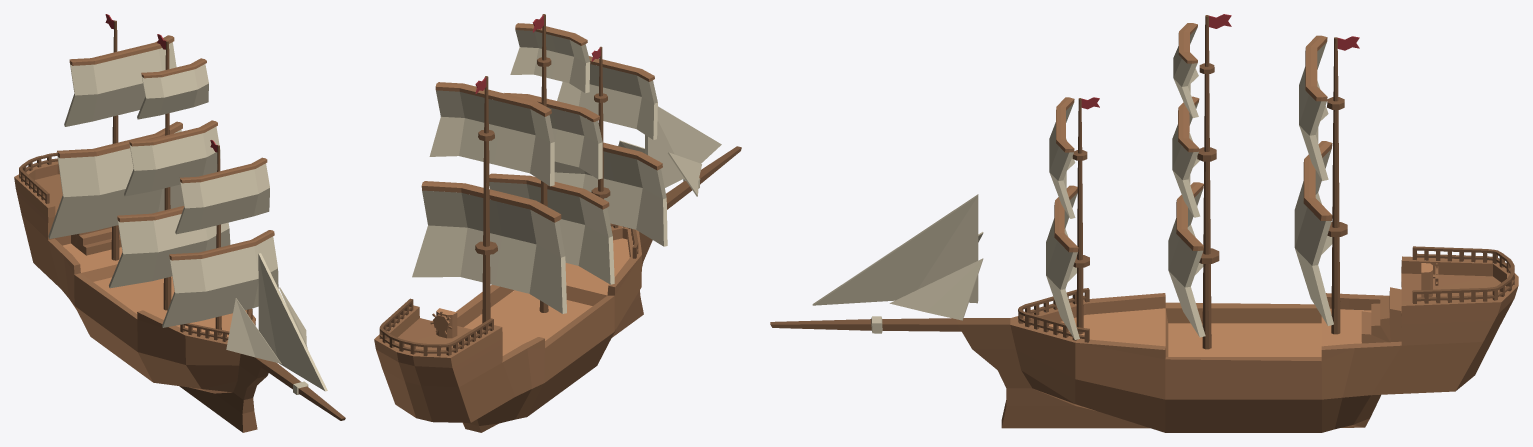
File: Ship-transformed.glb
3 views of the same model, side by side, from view 1: azimuth 30°, elevation 25°; view 2: azimuth 150°, elevation 25°; view 3: azimuth 270°, elevation 25° (orthographic). The views are drawn at different scales.
Visible parts, largest first — view 1: BigShip, BackSail, MidleSail, Front Sail; view 2: BigShip, BackSail, MidleSail, Front Sail; view 3: BigShip, BackSail, MidleSail, Front Sail.
Boxes of the visible parts, bbox=[...] form: BigShip: bbox=[14, 14, 345, 432]; BackSail: bbox=[48, 35, 183, 238]; MidleSail: bbox=[109, 58, 230, 288]; Front Sail: bbox=[162, 157, 278, 327]; BigShip: bbox=[374, 14, 741, 432]; BackSail: bbox=[412, 82, 566, 313]; MidleSail: bbox=[489, 23, 614, 284]; Front Sail: bbox=[554, 56, 667, 246]; BigShip: bbox=[770, 14, 1518, 432]; BackSail: bbox=[1294, 35, 1333, 325]; MidleSail: bbox=[1168, 23, 1205, 337]; Front Sail: bbox=[1046, 97, 1079, 339].
Size of the model in its own units: 1.7 by 3.85 by 6.38.
